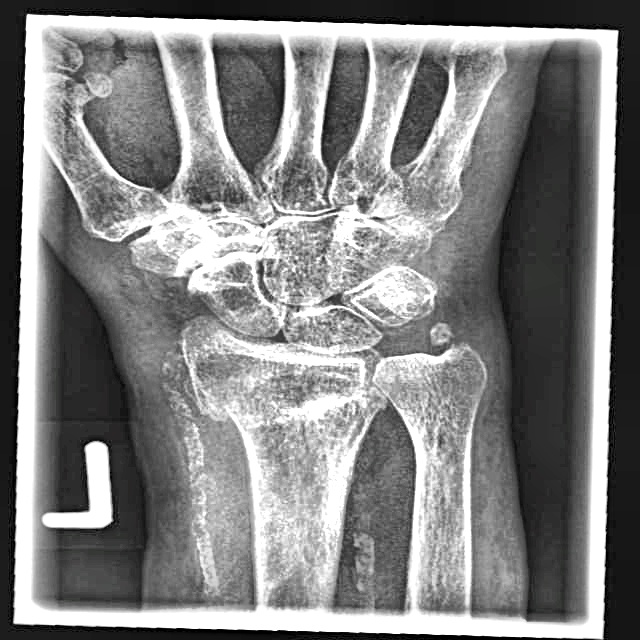Oblique Displaced: (43, 66, 112, 173)
